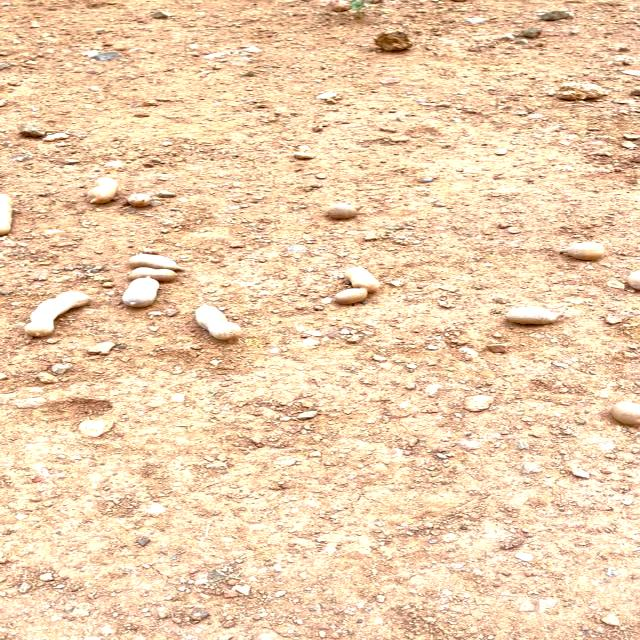tamarind: (26, 290, 90, 338), (194, 304, 244, 344), (120, 274, 162, 308), (341, 266, 392, 292), (127, 252, 187, 272), (609, 397, 640, 433), (556, 241, 610, 261), (126, 266, 188, 281), (322, 200, 365, 221), (90, 175, 120, 205), (506, 308, 564, 323), (0, 188, 15, 238), (331, 289, 375, 305), (126, 192, 158, 210)
